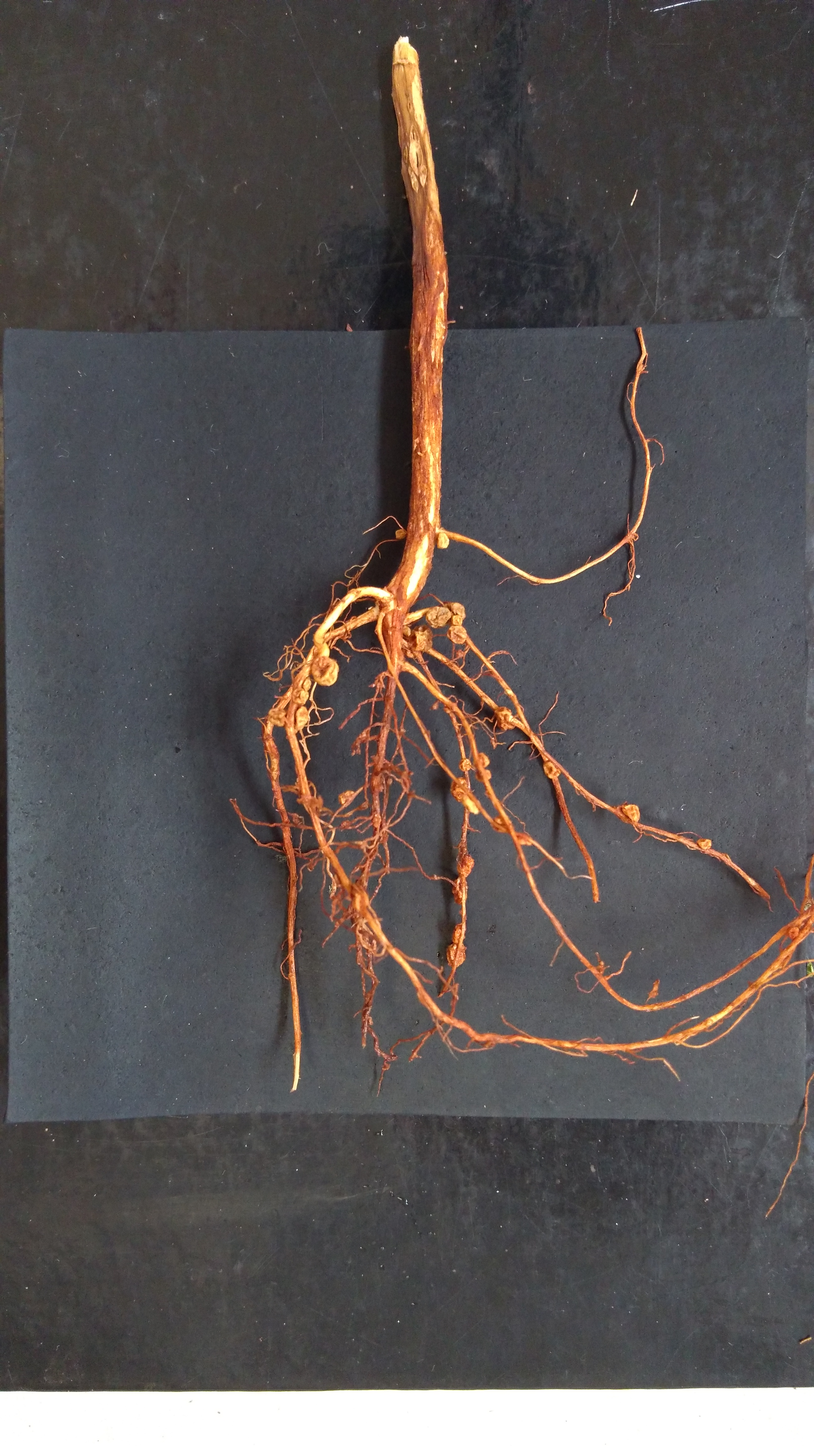nodule: (310, 655, 339, 688), (406, 623, 434, 653), (425, 604, 453, 629), (439, 599, 468, 621), (450, 876, 470, 906), (445, 942, 468, 968), (493, 706, 516, 731), (449, 776, 470, 803), (445, 624, 468, 646), (454, 854, 475, 877), (460, 794, 481, 816), (620, 803, 641, 824), (542, 759, 562, 781), (294, 705, 309, 732), (291, 685, 309, 707), (267, 708, 286, 728), (451, 922, 467, 944), (472, 751, 491, 768), (435, 531, 450, 550), (338, 789, 355, 805), (458, 756, 472, 774), (474, 769, 493, 782), (696, 838, 714, 851), (787, 925, 800, 941), (449, 614, 463, 627), (394, 528, 407, 540), (301, 678, 312, 692)
